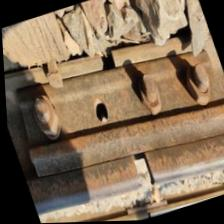person: (103, 130, 179, 203), (87, 44, 127, 80), (137, 208, 154, 221)
